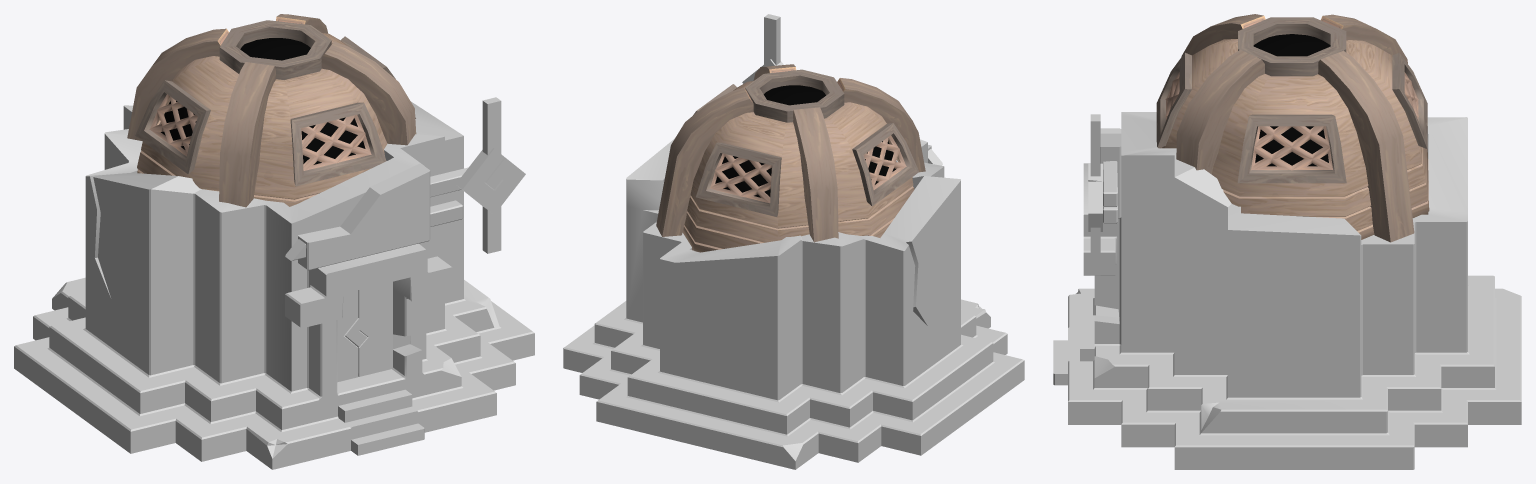
Rendered from Obj_Invernadero.fbx.
3 views of the same model, side by side, from view 1: azimuth 30°, elevation 25°; view 2: azimuth 150°, elevation 25°; view 3: azimuth 270°, elevation 25° (orthographic). The views are drawn at different scales.
Visible parts, largest first — view 1: Plane.002; view 2: Plane.002; view 3: Plane.002.
Boxes of the visible parts, x1,y1,x2,y2 form: Plane.002: (14,14,534,469); Plane.002: (563,14,1024,469); Plane.002: (1053,14,1521,469).
Bounding box in the file's own units: 18 × 13.68 × 17.54.
3 materials, 1 textured.
